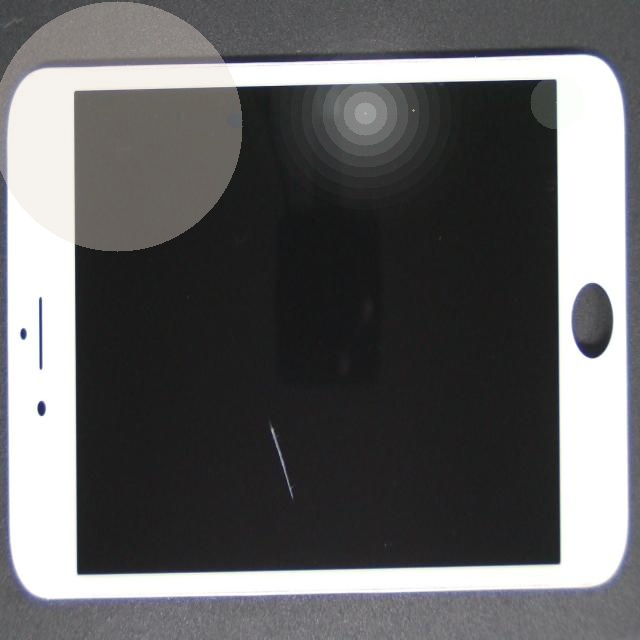scratch: (101, 136, 394, 640)
